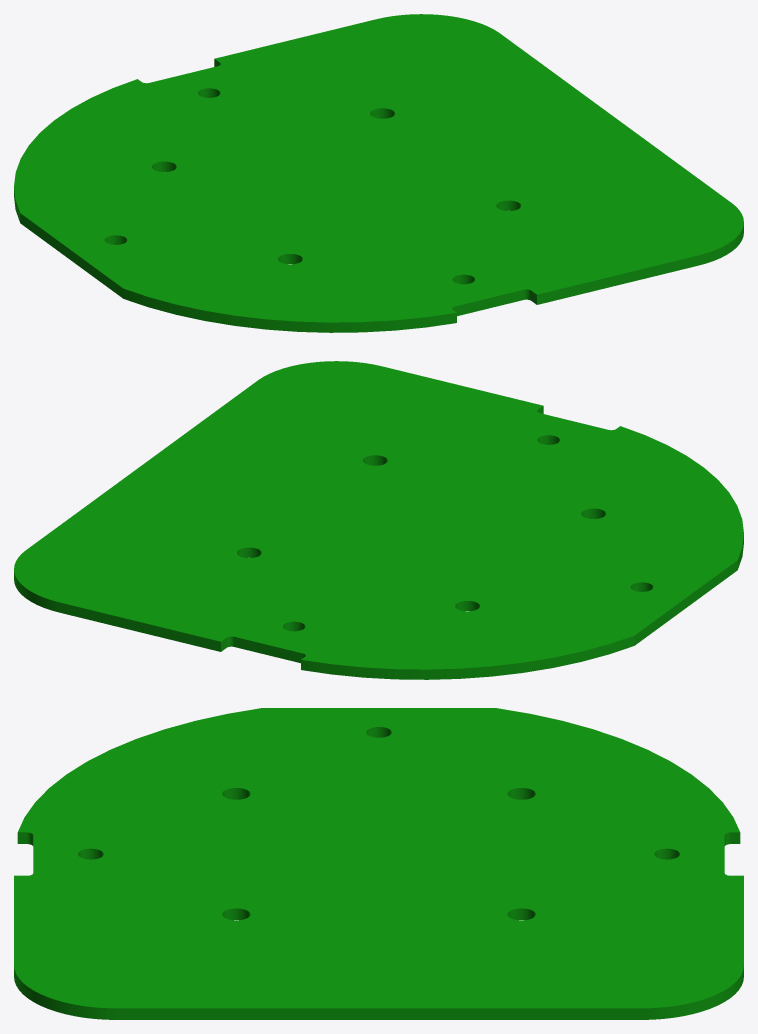
The model's file is Default__12_STEP_1_RP_lidar_A1_igs_STEP_1_motherboard_igs_STEP_1_solid1.obj.
3 views of the same model, one above another, from view 1: azimuth 30°, elevation 25°; view 2: azimuth 150°, elevation 25°; view 3: azimuth 270°, elevation 25° (orthographic). The views are drawn at different scales.
Visible parts, largest first — view 1: mesh2153, mesh2155, mesh2157, mesh2162, mesh2168; view 2: mesh2153, mesh2156, mesh2161, mesh2162, mesh2164; view 3: mesh2153, mesh2159, mesh2158, mesh2160.
Boxes of the visible parts, <box> form: mesh2153: <box>14,14,743,322</box>; mesh2155: <box>123,289,456,332</box>; mesh2157: <box>537,255,698,304</box>; mesh2162: <box>20,213,123,298</box>; mesh2168: <box>455,290,523,316</box>; mesh2153: <box>14,361,743,669</box>; mesh2156: <box>301,636,634,679</box>; mesh2161: <box>59,602,220,651</box>; mesh2162: <box>634,560,737,645</box>; mesh2164: <box>234,637,302,663</box>; mesh2153: <box>14,708,743,1008</box>; mesh2159: <box>116,1008,641,1019</box>; mesh2158: <box>14,966,116,1019</box>; mesh2160: <box>641,966,743,1019</box>.
Bounding box in the file's own units: 0.0555 × 0.001 × 0.057.
